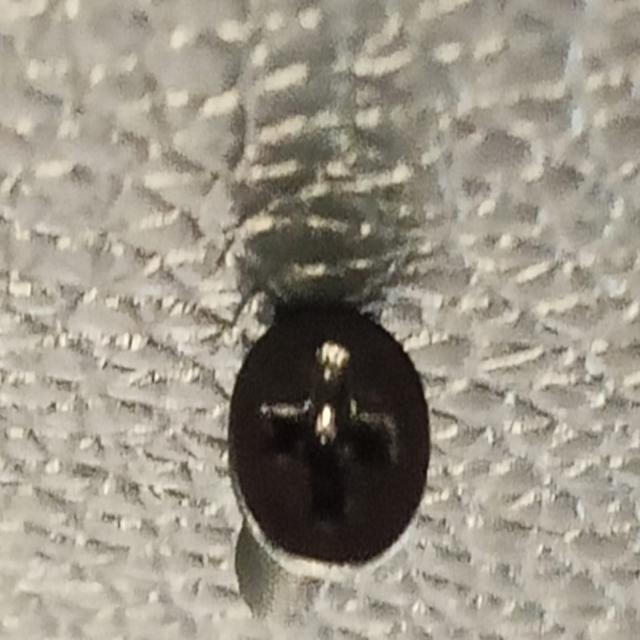phillips: (227, 298, 432, 582)
